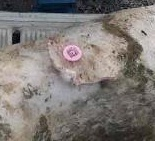text: (55, 38, 89, 69)
